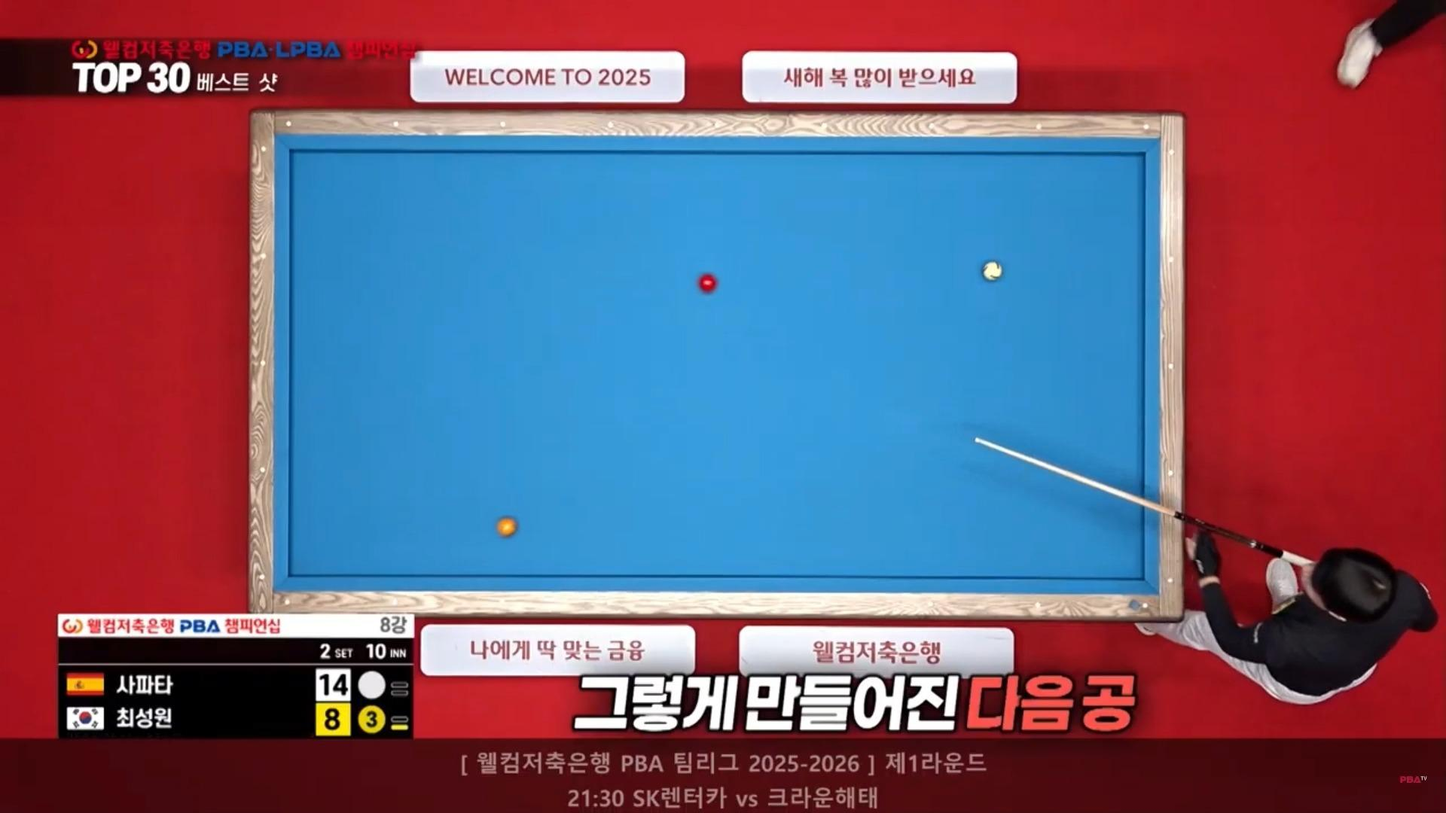Red: (698, 274, 720, 293)
White: (980, 261, 1004, 281)
billiard-ball-Yellow: (495, 514, 521, 537)
